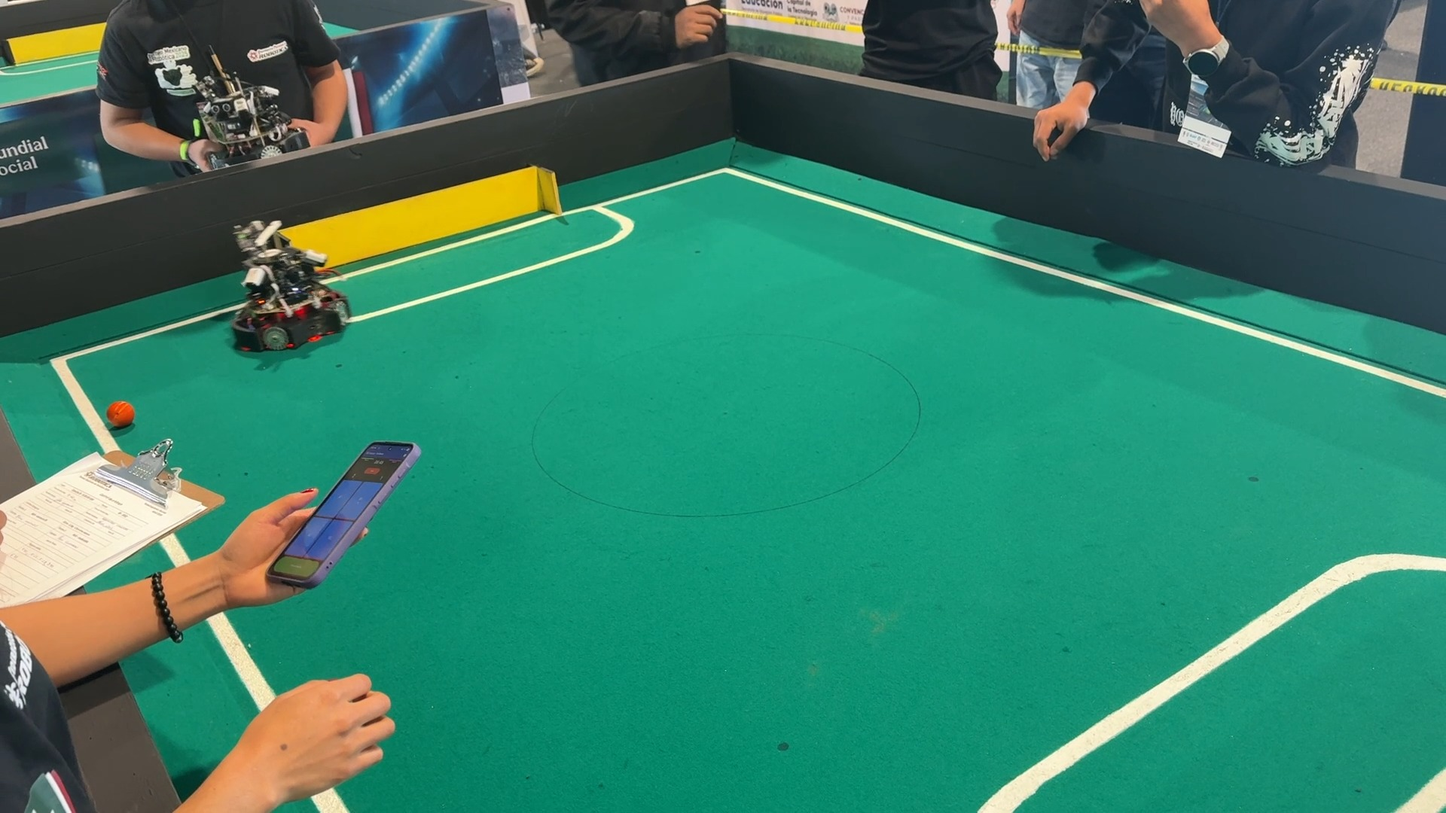Robot: (222, 211, 366, 371), (178, 67, 312, 170)
pelota: (99, 395, 142, 433)
